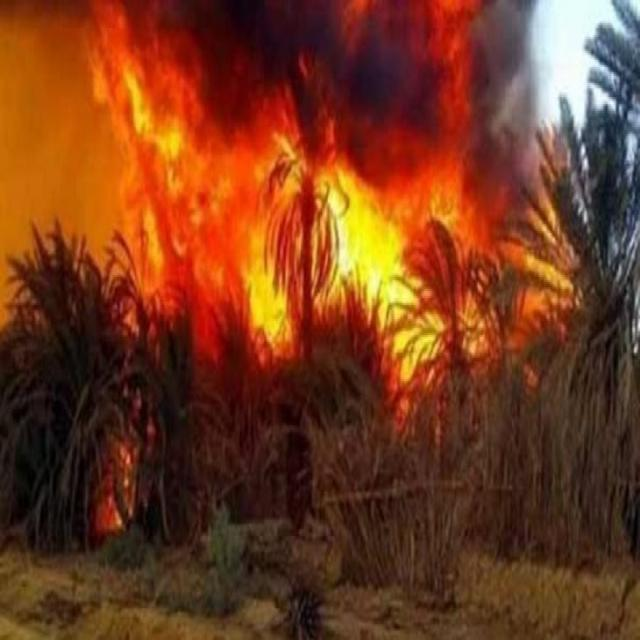Fire: (90, 7, 230, 340), (230, 118, 404, 368), (391, 174, 498, 422), (498, 141, 580, 392), (429, 0, 482, 227), (98, 438, 138, 535)
Smoke: (339, 0, 539, 183), (0, 0, 91, 231), (231, 2, 340, 166)
